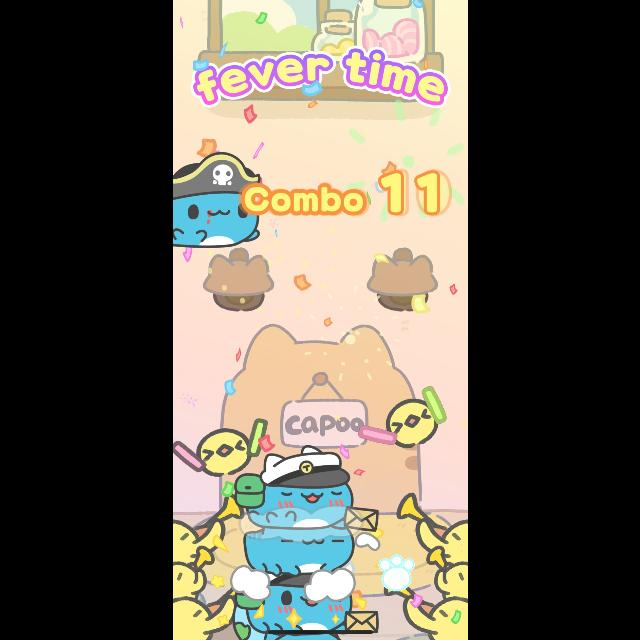capoo: (231, 443, 381, 532), (172, 151, 260, 251), (237, 574, 379, 634), (242, 525, 360, 575)
